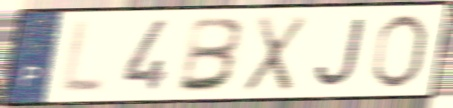4: (119, 16, 174, 96)
B: (174, 15, 249, 95)
J: (311, 15, 369, 89)
L: (58, 18, 107, 96)
O: (366, 12, 430, 91)
X: (240, 13, 312, 95)
